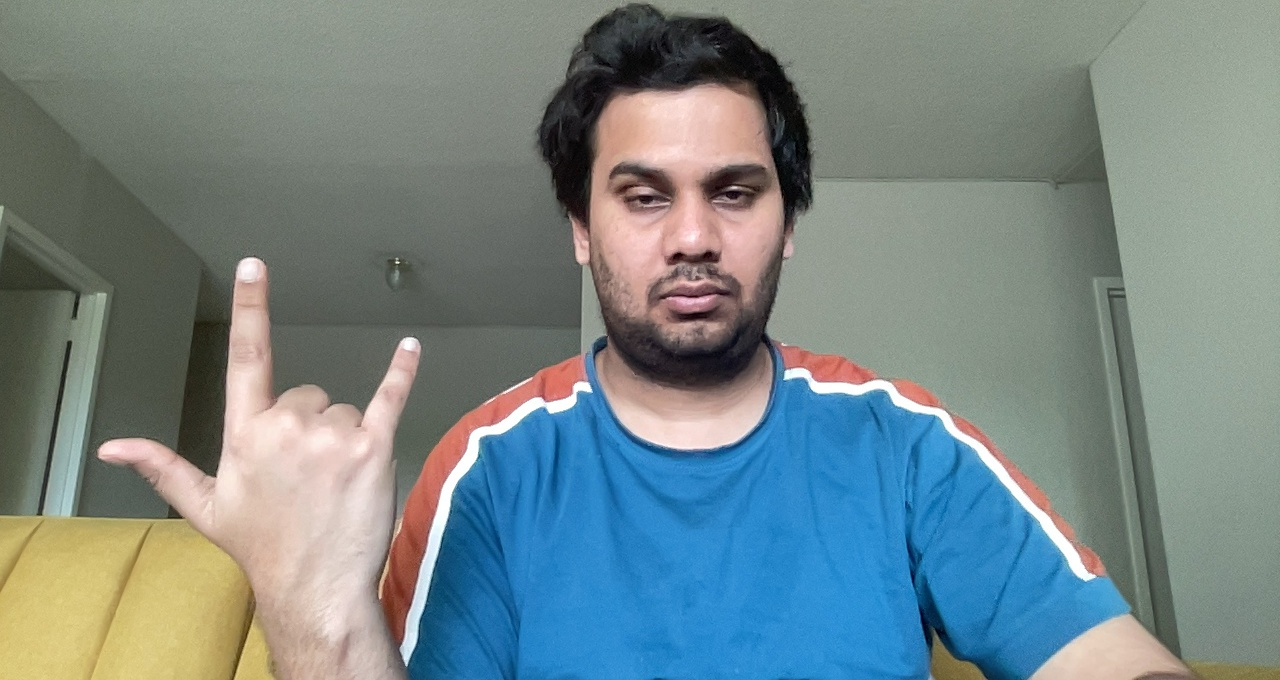rockon sign: (94, 253, 424, 617)
